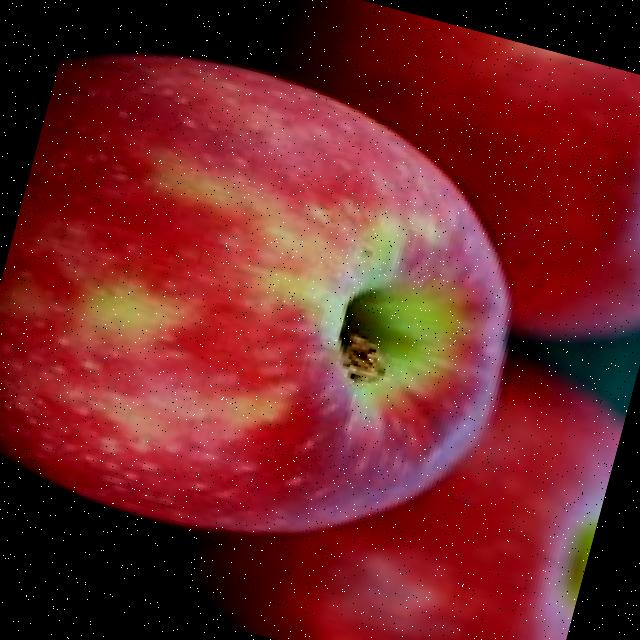apple: (0, 19, 559, 598)
